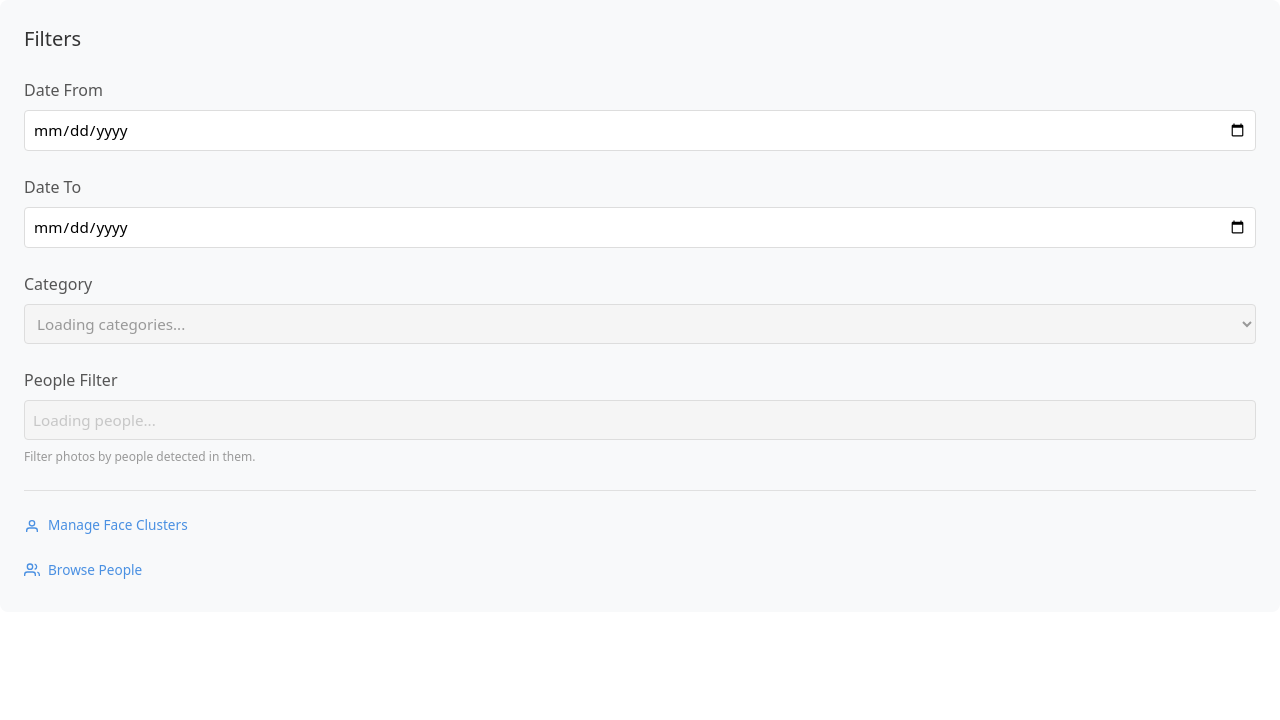
Test: FiltersPanel › clear all button resets date inputs
# Set values
Type "2024-01-01" into the date field labelled "Date From" at (640, 130), box [24,110,1256,151]
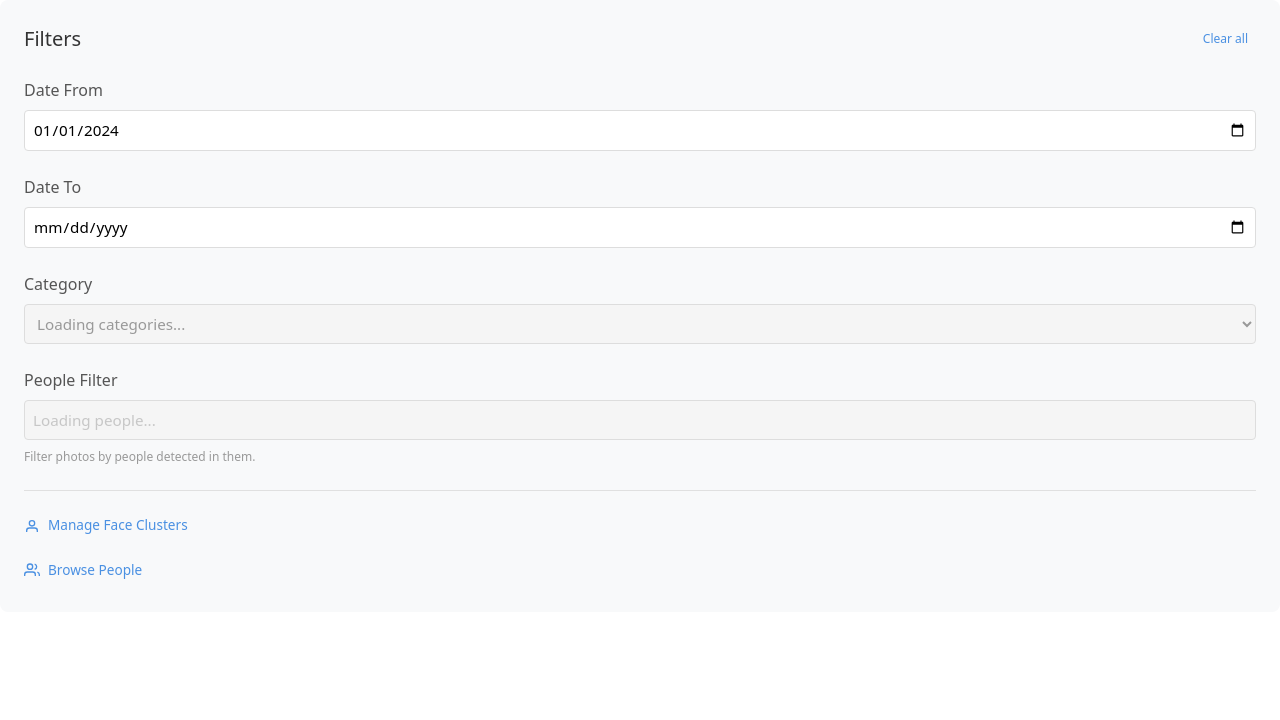
Type "2024-12-31" into the date field labelled "Date To" at (640, 227), box [24,207,1256,248]
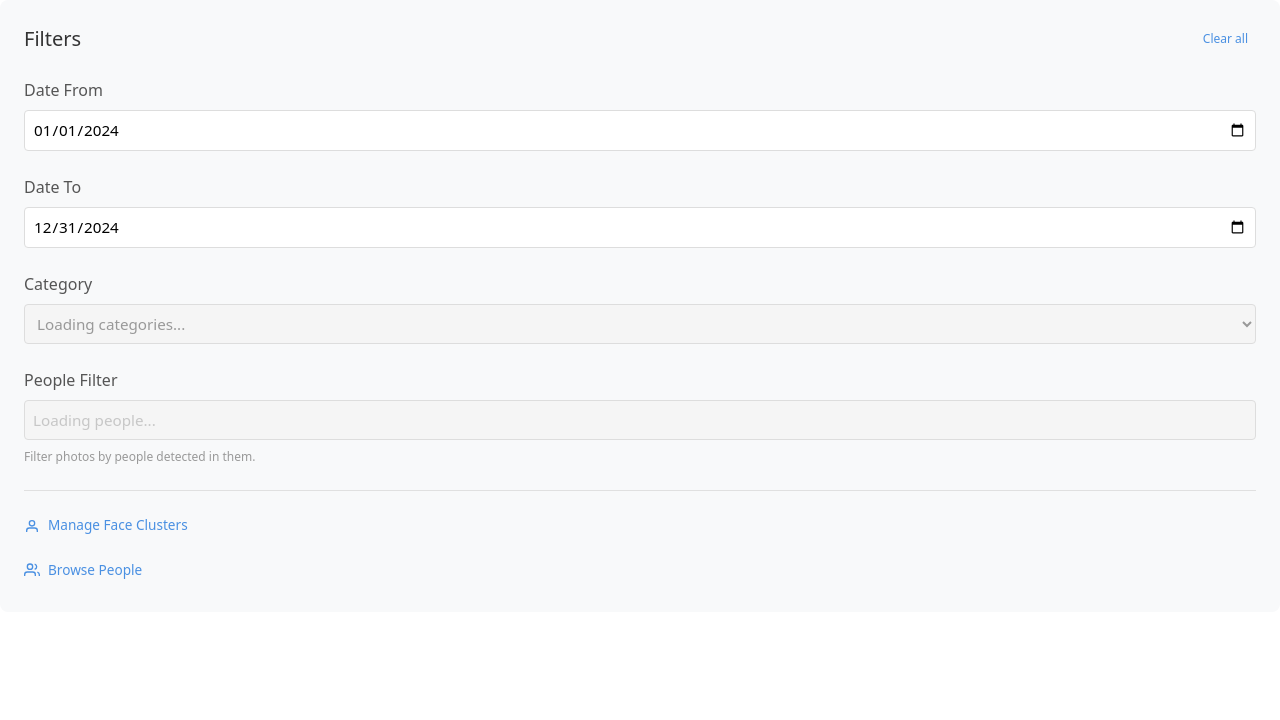
# Click clear
Click the button "Clear all" at (1225, 39), box [1195,26,1256,52]
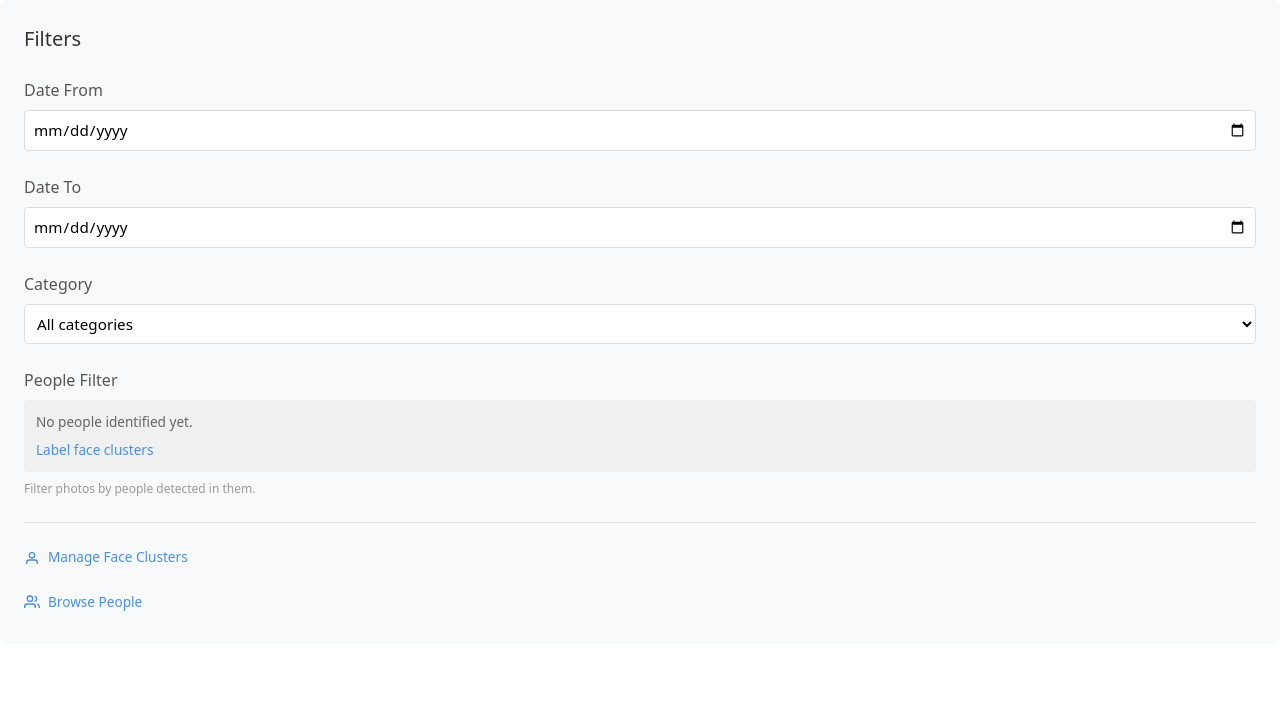
Check: the date field labelled "Date From" is empty, box [24,110,1256,151]
Check: the date field labelled "Date To" is empty, box [24,207,1256,248]
